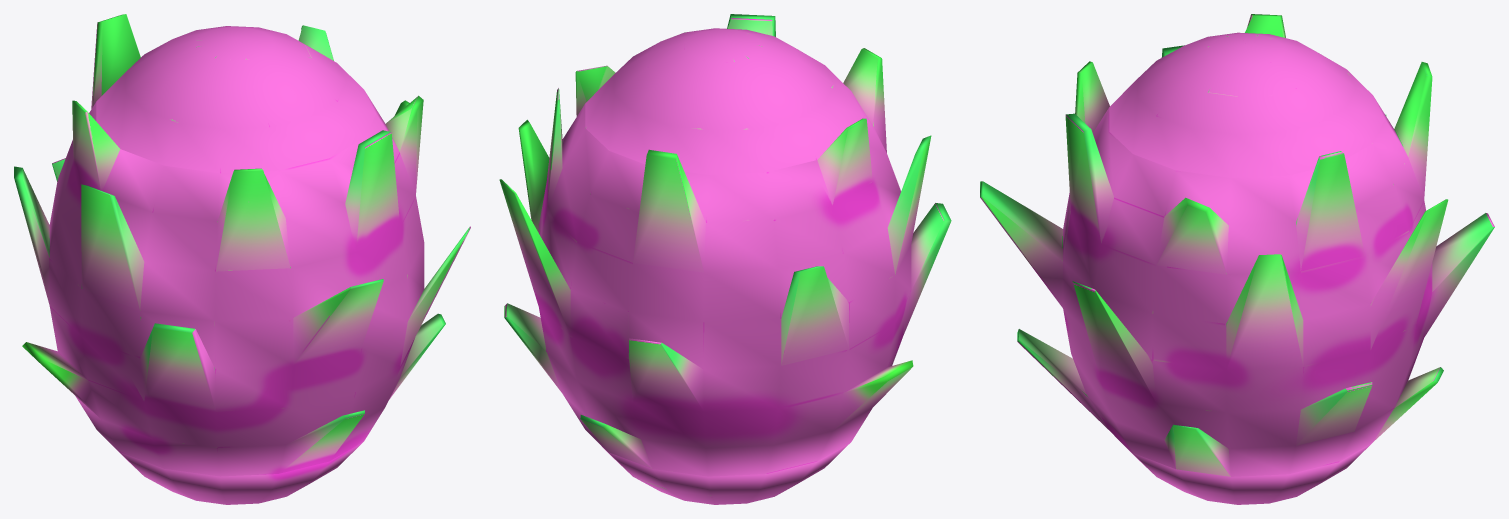
The model's file is dragonfruit.fbx.
The picture shows the model from 3 angles, left to right: view 1: azimuth 30°, elevation 25°; view 2: azimuth 150°, elevation 25°; view 3: azimuth 270°, elevation 25°; orthographic projection.
Visible parts, largest first — view 1: Sphere; view 2: Sphere; view 3: Sphere.
Part boxes in pixels (bbox=[...]): Sphere: bbox=[14, 14, 470, 504]; Sphere: bbox=[499, 14, 951, 504]; Sphere: bbox=[980, 14, 1494, 504].
Size of the model in its own units: 188 by 180 by 159.
1 material, 1 textured.
